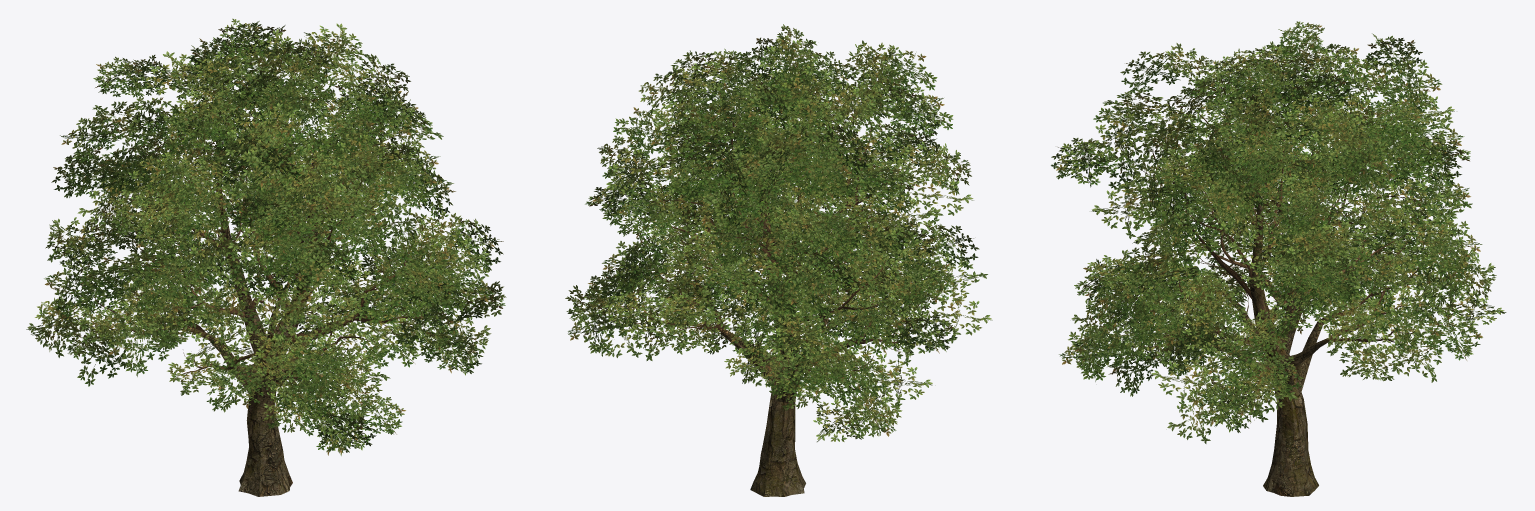
Rendered from bg_anh_tree_te_t50_sm_old.FBX.
The picture shows the model from 3 angles, left to right: view 1: azimuth 30°, elevation 25°; view 2: azimuth 150°, elevation 25°; view 3: azimuth 270°, elevation 25°; orthographic projection. The views are drawn at different scales.
Parts seen in each view (by area): view 1: bg_anh_tree_te_t50_sm_old; view 2: bg_anh_tree_te_t50_sm_old; view 3: bg_anh_tree_te_t50_sm_old.
Boxes of the visible parts, bbox=[...] form: bg_anh_tree_te_t50_sm_old: bbox=[26, 18, 506, 496]; bg_anh_tree_te_t50_sm_old: bbox=[565, 24, 992, 496]; bg_anh_tree_te_t50_sm_old: bbox=[1051, 21, 1506, 496].
Bounding box in the file's own units: 631 × 664 × 634.
